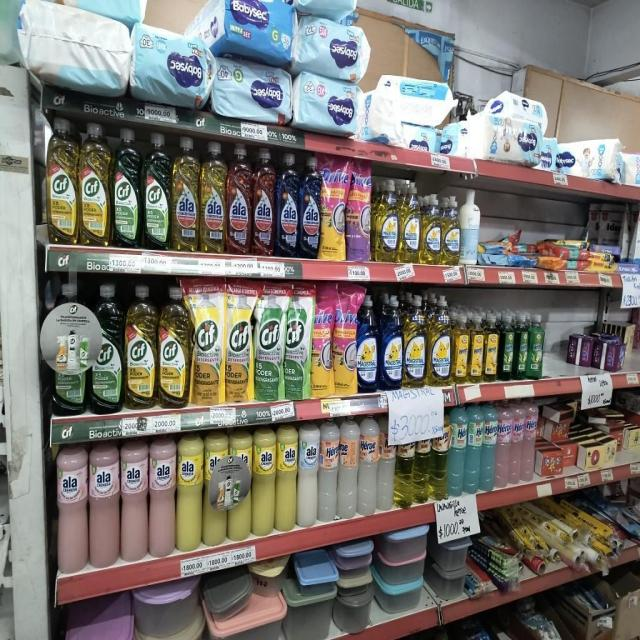ala_conc_amarillo: (172, 136, 199, 252), (200, 140, 226, 253)
ala_conc_azul: (276, 152, 298, 258), (299, 154, 320, 258)
ala_conc_rojo: (227, 144, 251, 255), (252, 147, 275, 257)
ala_crem_amarillo: (177, 434, 202, 553), (203, 432, 227, 546), (253, 426, 275, 536), (276, 424, 297, 533)
ala_crem_blanco: (298, 422, 318, 528)
ala_crem_rosado: (55, 445, 88, 574), (89, 442, 119, 568), (120, 440, 148, 562), (149, 437, 175, 558)
cif_conc_bot_amarilla: (46, 117, 77, 245), (125, 284, 156, 410), (79, 121, 110, 246), (159, 286, 189, 408)
cif_conc_botella_verde: (90, 283, 122, 413), (112, 127, 141, 248), (143, 132, 170, 250)
cif_conc_sachet_amarillo: (190, 277, 223, 405), (225, 278, 253, 404)
cif_conc_sachet_verde: (254, 282, 284, 402), (284, 283, 310, 399)
drive: (347, 159, 372, 261), (311, 284, 333, 397), (334, 283, 356, 396), (321, 157, 345, 260)
heroe: (318, 418, 338, 522), (338, 415, 358, 519), (358, 414, 378, 516), (448, 404, 466, 496), (466, 402, 482, 493), (482, 401, 496, 492), (496, 400, 510, 488), (523, 400, 537, 482), (510, 398, 523, 484)
magistral_con_amarillo: (428, 294, 452, 386), (404, 294, 426, 388), (375, 177, 399, 263), (400, 179, 420, 263), (421, 193, 441, 264), (442, 194, 460, 266)
magistral_con_azul: (380, 294, 403, 390), (357, 294, 379, 394)
